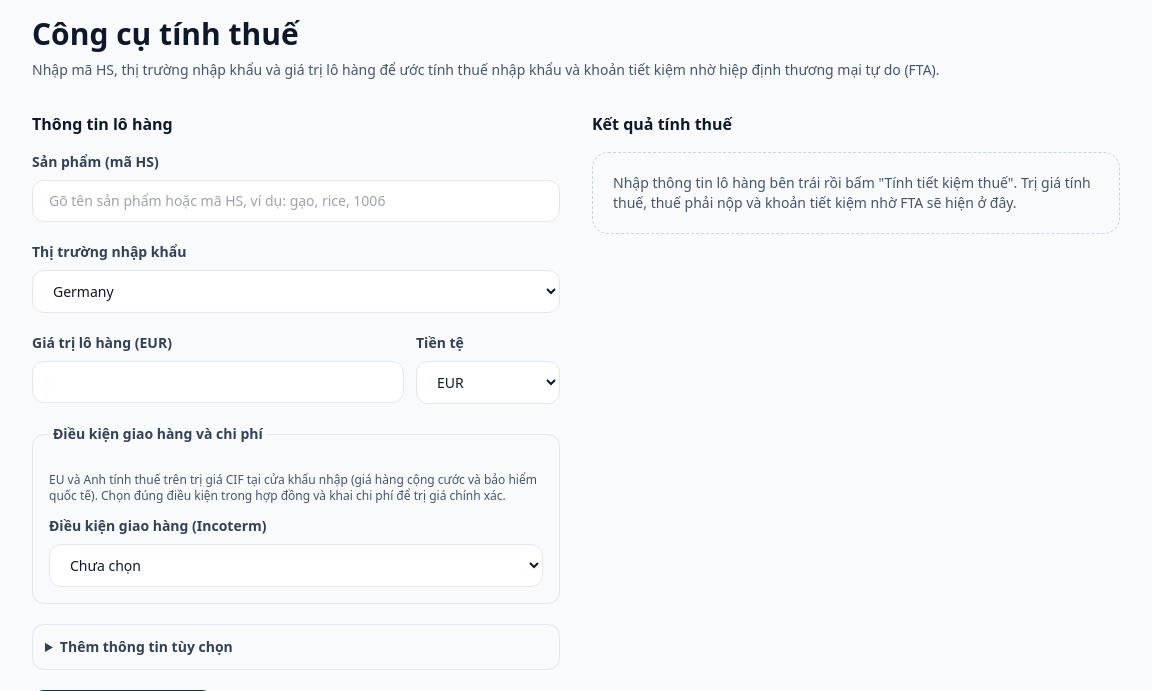
it: Máy tính thuế: trị giá tính thuế (C2-A) › chi phí của ô đã ẩn không được gửi
Type "ca tra" into the dropdown labelled "Sản phẩm (mã HS)".
click(296, 201); type("ca tra")  # box top-left (32, 180), bottom-right (560, 222)
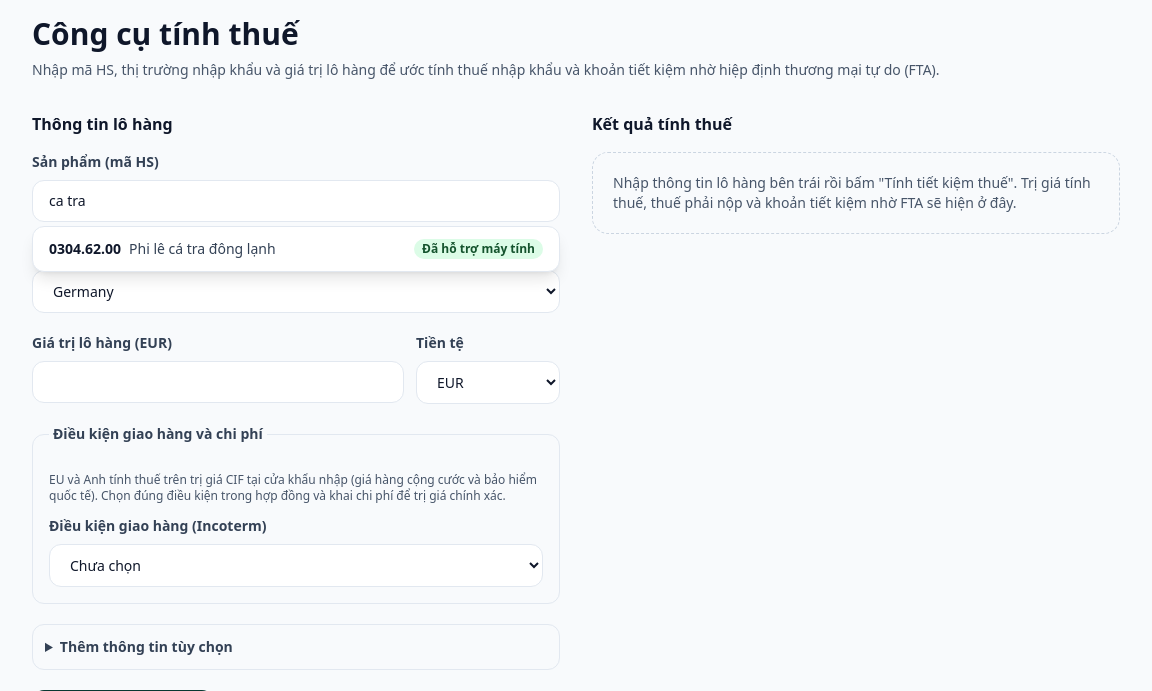
Click the option "0304.62.00Phi lê cá tra đông lạnh Đã hỗ trợ máy tính".
click(85, 248)  # box top-left (49, 239), bottom-right (543, 259)
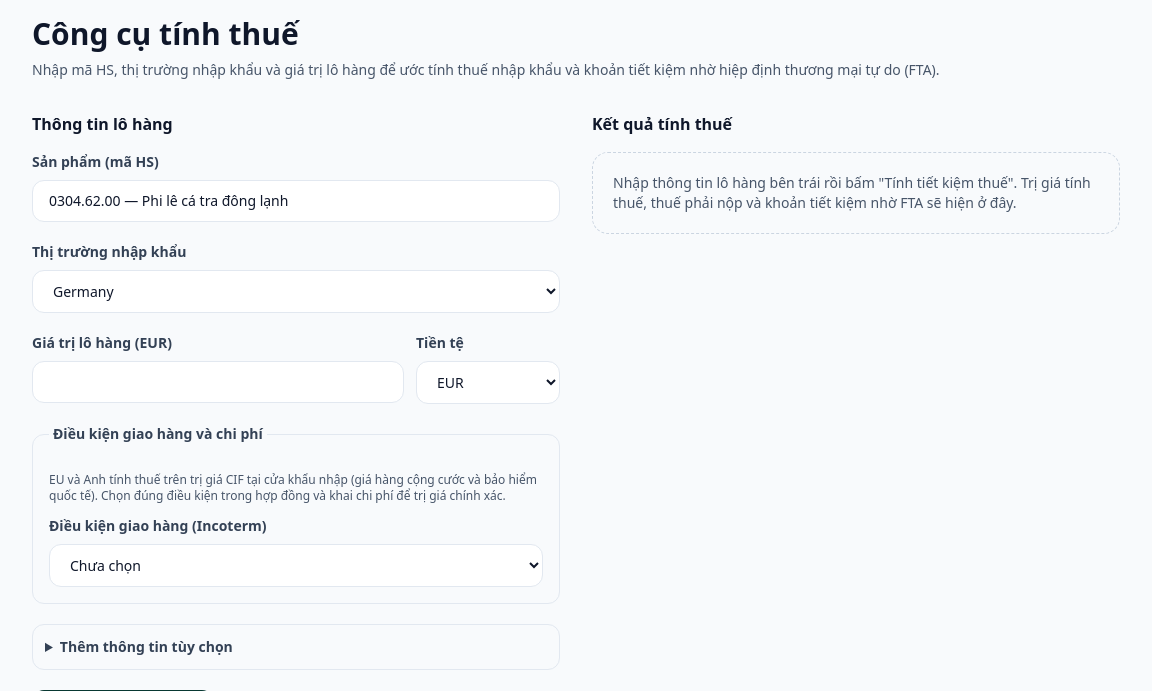
Type "100000" into the field labelled "Giá trị lô hàng (EUR)".
click(218, 382); type("100000")  # box top-left (32, 361), bottom-right (404, 403)
Select "FOB — Giao lên tàu" in the dropdown labelled "Điều kiện giao hàng (Incoterm)" at (296, 566), box top-left (49, 544), bottom-right (543, 587)
(page scrolled)
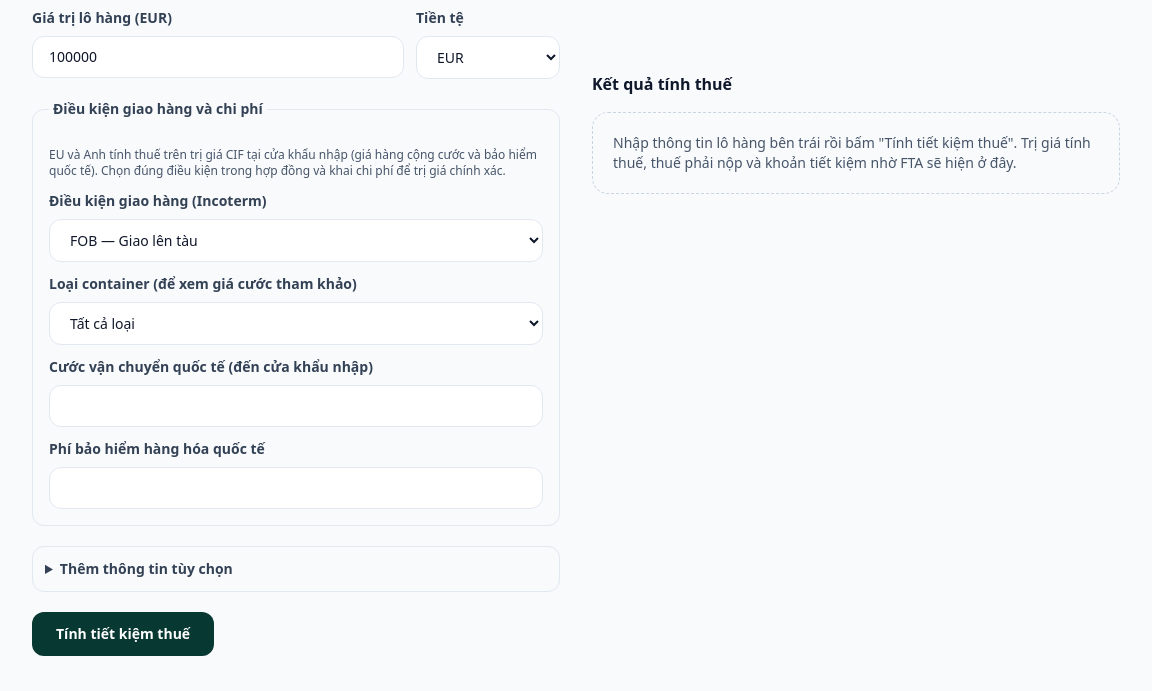
Type "3000" into the field labelled "Cước vận chuyển quốc tế (đến cửa khẩu nhập)".
click(296, 406); type("3000")  # box top-left (49, 385), bottom-right (543, 427)
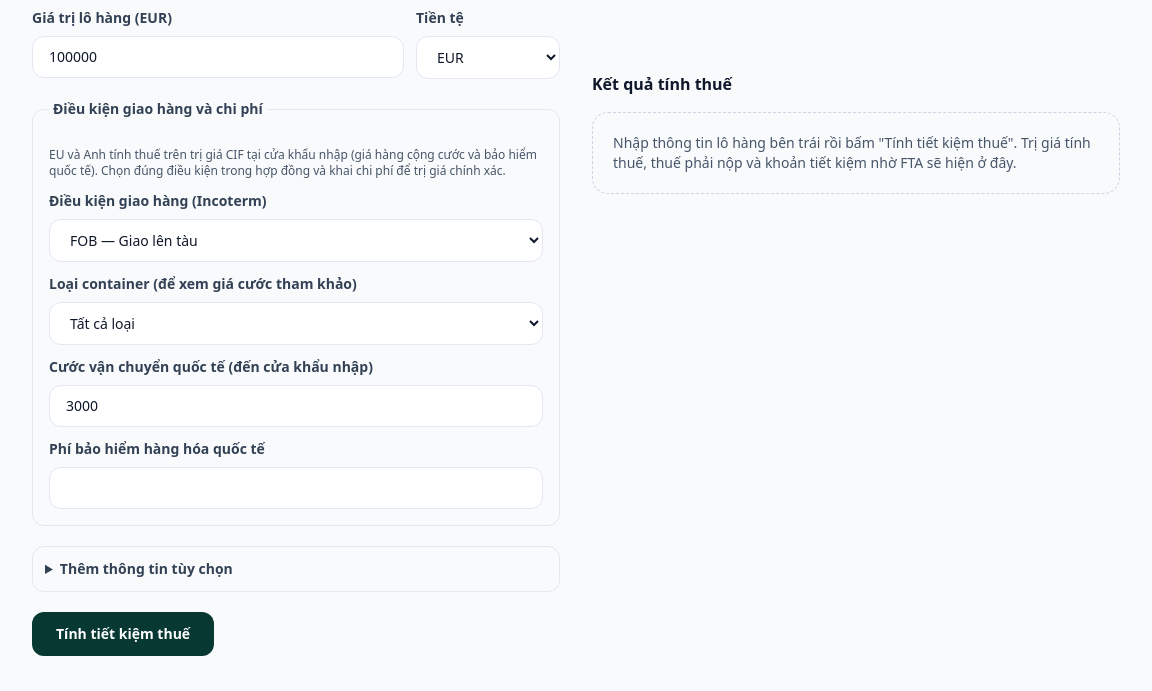
Select "CIF — Tiền hàng, bảo hiểm và cước phí" in the dropdown labelled "Điều kiện giao hàng (Incoterm)" at (296, 240), box top-left (49, 219), bottom-right (543, 262)
(page scrolled)
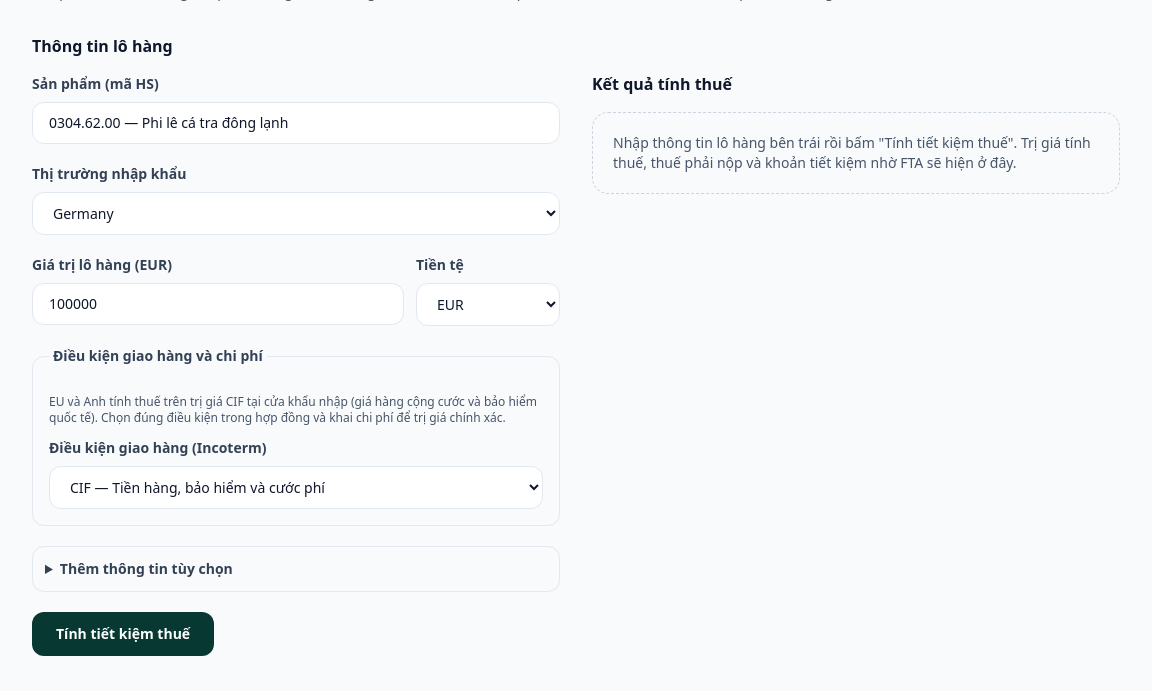
Click the button "Tính tiết kiệm thuế".
click(123, 634)  # box top-left (32, 612), bottom-right (214, 656)
(page scrolled)
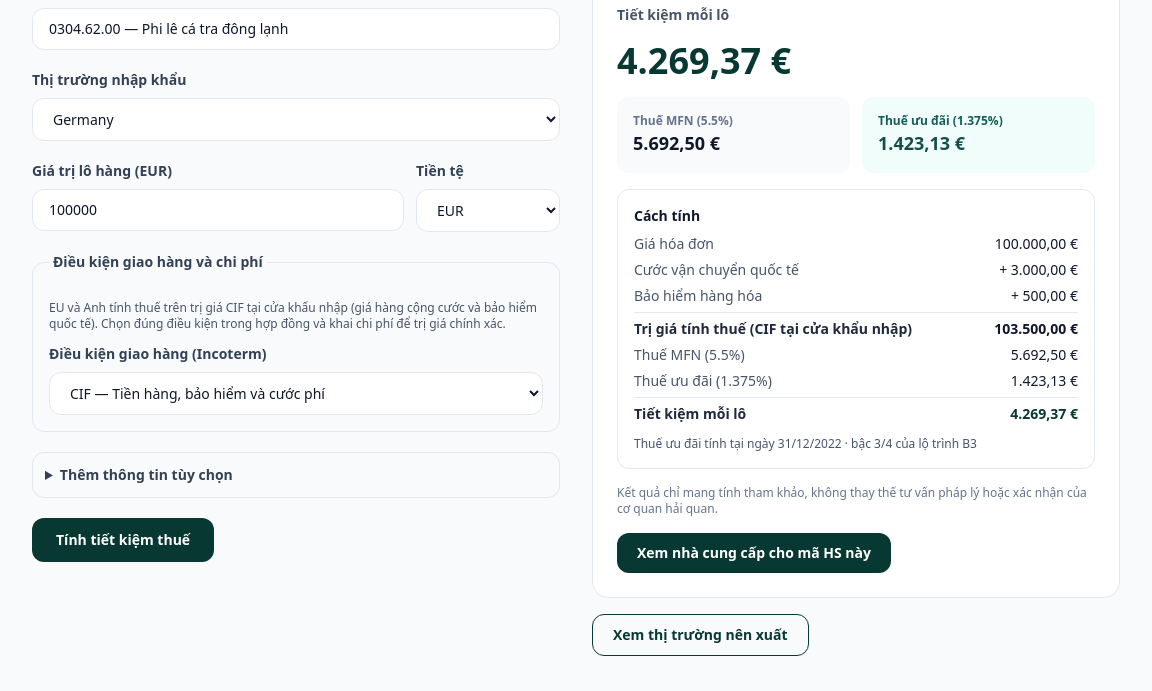
Now the element with test id "valuation-breakdown" is shown, box top-left (617, 189), bottom-right (1095, 469)
